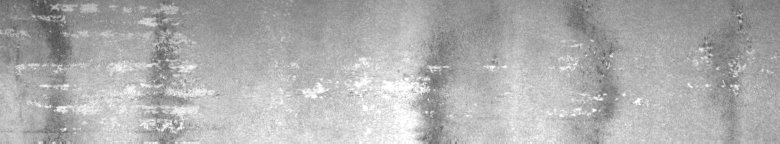hc: (699, 13, 744, 91)
